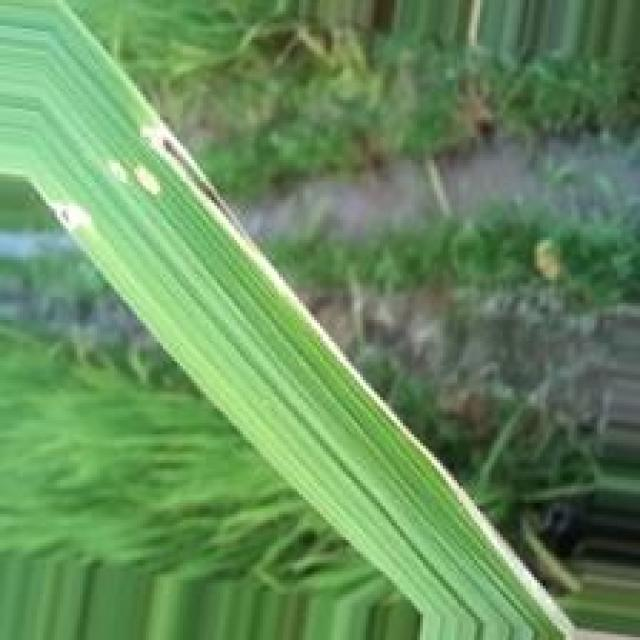Rice_Hispa: (146, 125, 640, 640), (51, 199, 98, 242), (109, 161, 157, 193)
